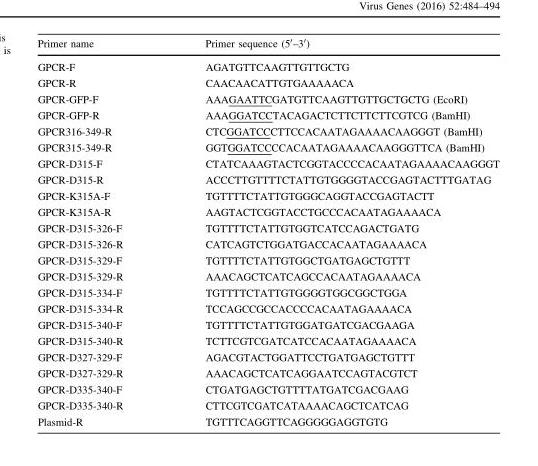table: (36, 36, 498, 426)
table column: (163, 36, 498, 426), (36, 36, 163, 426)
table column header: (36, 36, 498, 55)
table row: (36, 55, 498, 75), (36, 36, 498, 55), (36, 171, 498, 188), (36, 300, 498, 317), (36, 75, 498, 91), (36, 91, 498, 107), (36, 107, 498, 123), (36, 123, 498, 139), (36, 139, 498, 155), (36, 155, 498, 171), (36, 188, 498, 204), (36, 204, 498, 220), (36, 220, 498, 236), (36, 236, 498, 252), (36, 252, 498, 268), (36, 268, 498, 284), (36, 284, 498, 300), (36, 317, 498, 333), (36, 333, 498, 349), (36, 349, 498, 365), (36, 365, 498, 381), (36, 381, 498, 397), (36, 397, 498, 413), (36, 413, 498, 426)
